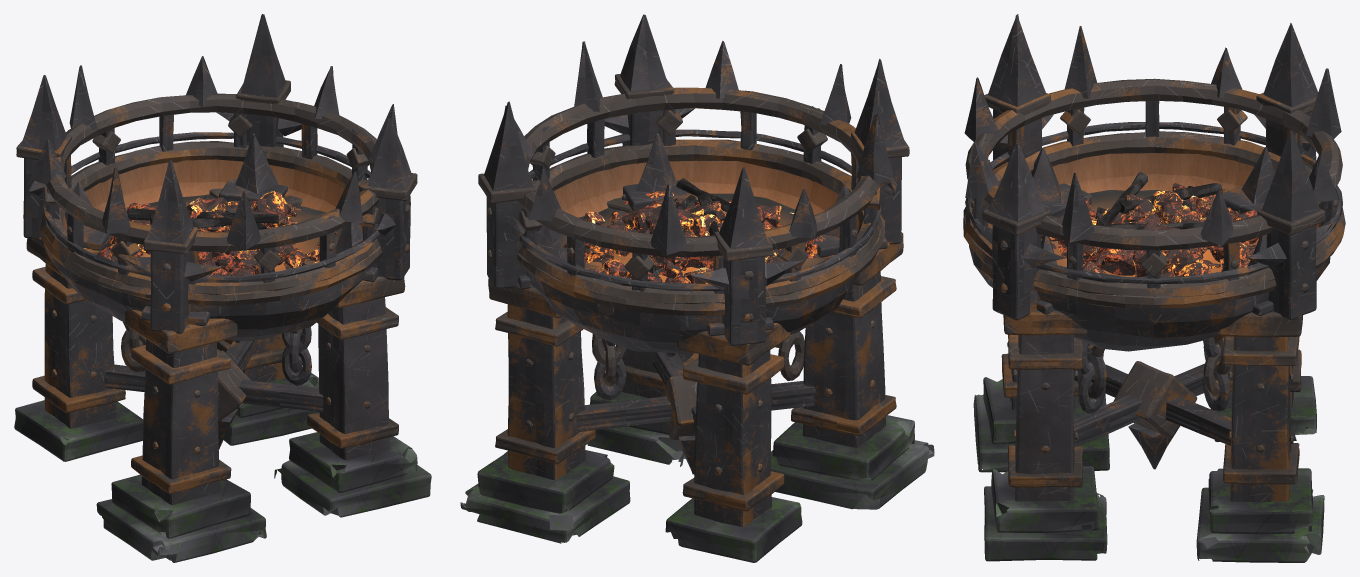
The model's file is SM_Cripta_Braseiro.glb.
3 views of the same model, side by side, from view 1: azimuth 30°, elevation 25°; view 2: azimuth 150°, elevation 25°; view 3: azimuth 270°, elevation 25° (orthographic). The views are drawn at different scales.
Parts seen in each view (by area): view 1: SM_Cripta_Braseiro; view 2: SM_Cripta_Braseiro; view 3: SM_Cripta_Braseiro.
Boxes of the visible parts, x1,y1,x2,y2 form: SM_Cripta_Braseiro: (14,14,431,562); SM_Cripta_Braseiro: (460,14,934,562); SM_Cripta_Braseiro: (963,14,1345,562).
Bounding box in the file's own units: 1.46 × 1.76 × 1.46.
11 materials, 11 textured.
